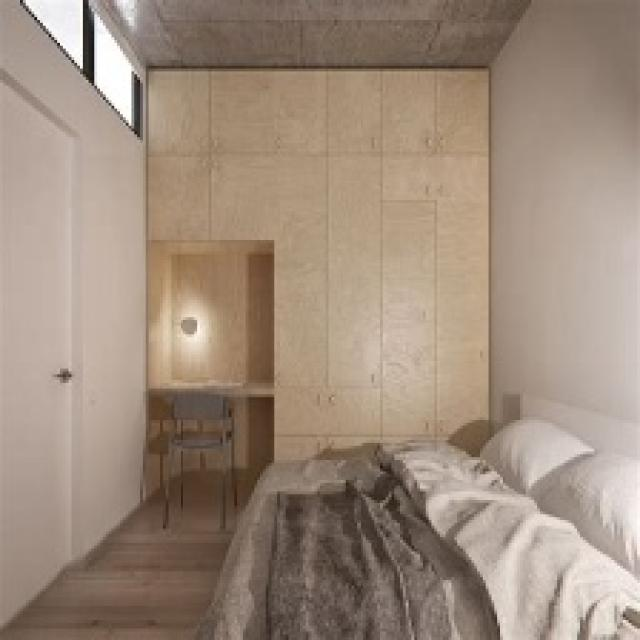Bed: (189, 392, 637, 637)
